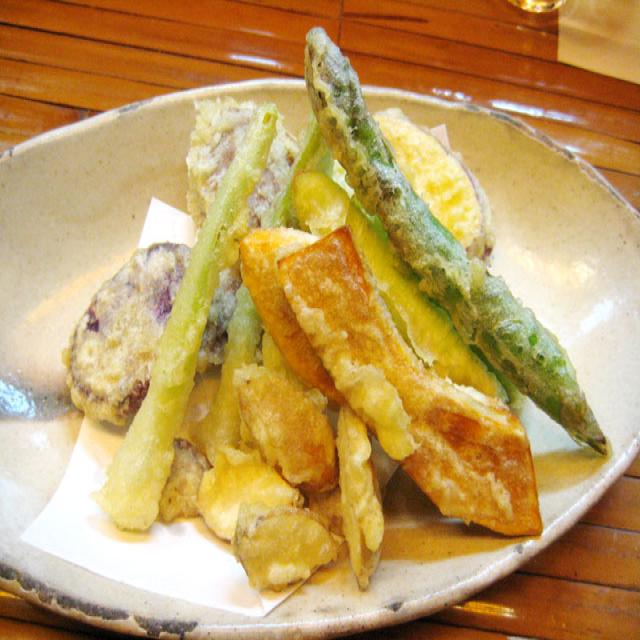蔬菜料理: (66, 0, 620, 640)
